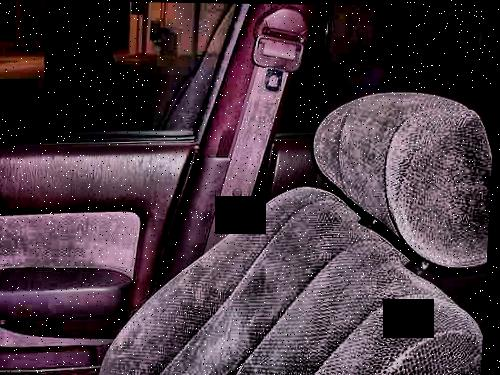seatbelt: (192, 16, 305, 223)
